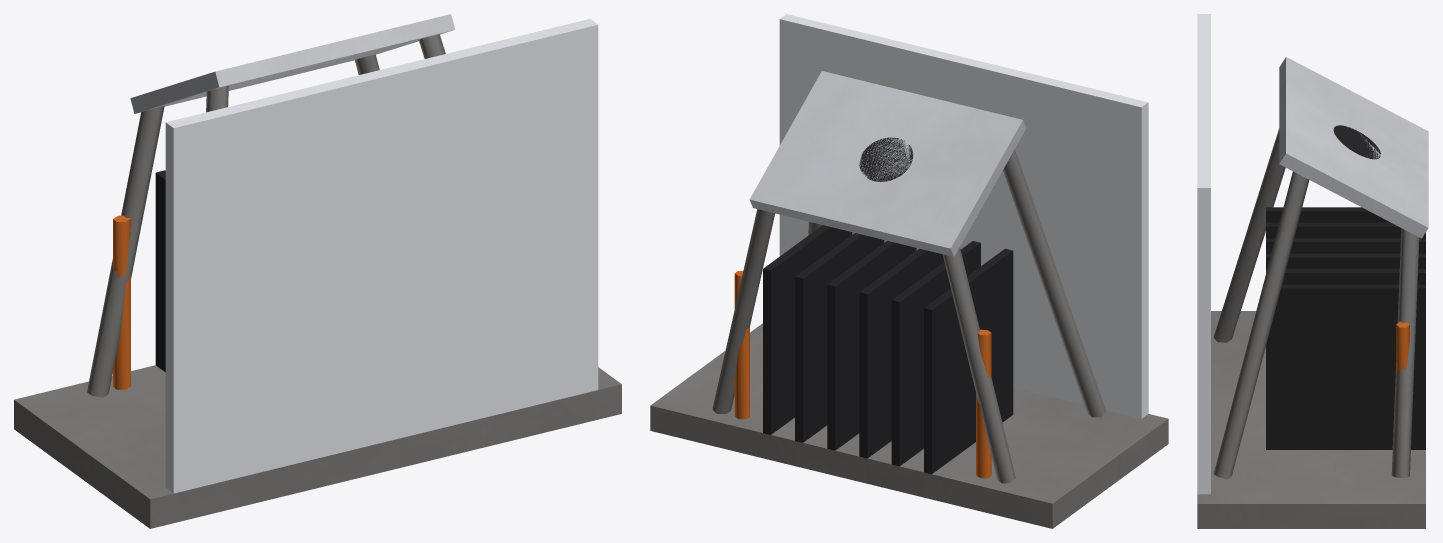
The model's file is rover29_rtg_mount.glb.
The picture shows the model from 3 angles, left to right: view 1: azimuth 30°, elevation 25°; view 2: azimuth 150°, elevation 25°; view 3: azimuth 270°, elevation 25°; orthographic projection. The views are drawn at different scales.
Parts seen in each view (by area): view 1: thermal_shield, base, struts, cradle, coolant_loop, heat_exchanger; view 2: thermal_shield, heat_exchanger, cradle, base, struts, coolant_loop, cradle_bolts; view 3: heat_exchanger, base, cradle, struts, thermal_shield, cradle_bolts, coolant_loop.
Boxes of the visible parts, x1=… form: thermal_shield: x1=165, y1=19, x2=598, y2=493; base: x1=14, y1=365, x2=621, y2=528; struts: x1=87, y1=34, x2=445, y2=397; cradle: x1=130, y1=14, x2=454, y2=113; coolant_loop: x1=113, y1=215, x2=130, y2=389; heat_exchanger: x1=155, y1=170, x2=165, y2=372; thermal_shield: x1=779, y1=14, x2=1148, y2=418; heat_exchanger: x1=763, y1=225, x2=1013, y2=474; cradle: x1=749, y1=71, x2=1026, y2=256; base: x1=650, y1=323, x2=1168, y2=528; struts: x1=712, y1=149, x2=1106, y2=483; coolant_loop: x1=734, y1=271, x2=991, y2=478; cradle_bolts: x1=859, y1=137, x2=913, y2=181; heat_exchanger: x1=1266, y1=207, x2=1425, y2=449; base: x1=1197, y1=311, x2=1425, y2=528; cradle: x1=1279, y1=57, x2=1428, y2=238; struts: x1=1213, y1=128, x2=1419, y2=479; thermal_shield: x1=1197, y1=14, x2=1210, y2=494; cradle_bolts: x1=1333, y1=125, x2=1380, y2=159; coolant_loop: x1=1396, y1=321, x2=1409, y2=373.
Bounding box in the file's own units: 1 × 0.8 × 0.5059.
5 materials, 2 textured.
